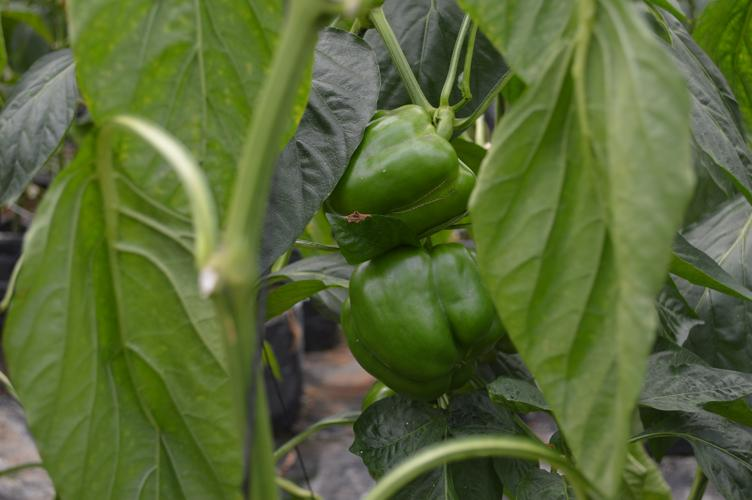BellPepper: (338, 242, 497, 394), (327, 105, 470, 232)
